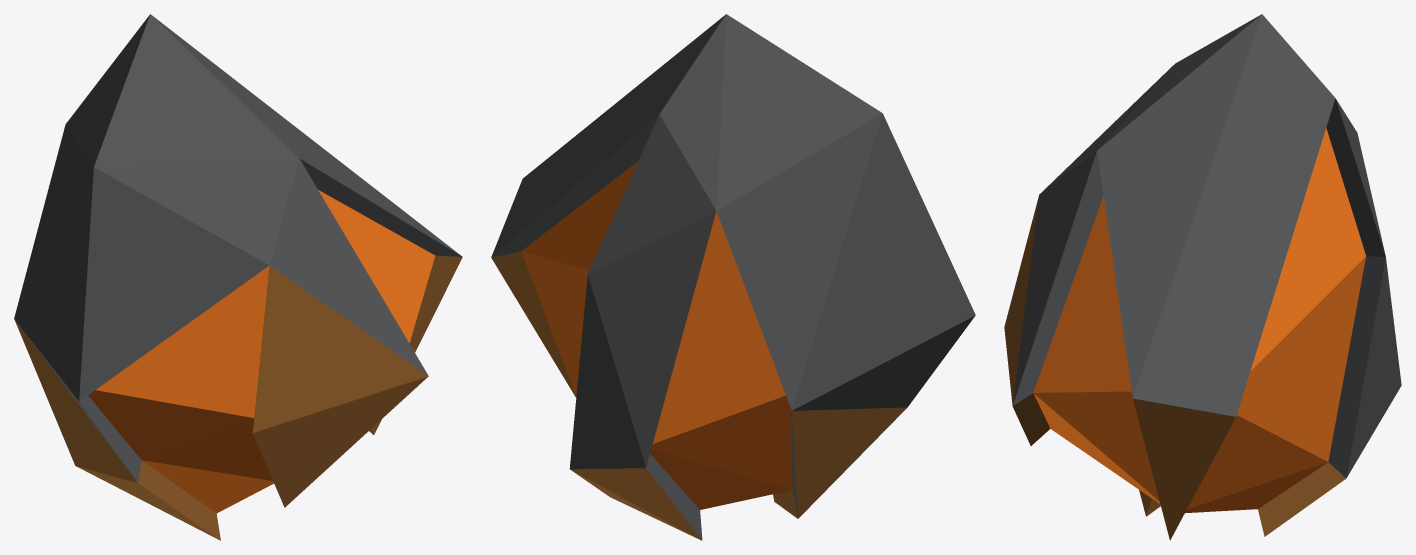
Rendered from Meteor.fbx.
3 views of the same model, side by side, from view 1: azimuth 30°, elevation 25°; view 2: azimuth 150°, elevation 25°; view 3: azimuth 270°, elevation 25° (orthographic). The views are drawn at different scales.
Parts seen in each view (by area): view 1: Icosphere; view 2: Icosphere; view 3: Icosphere.
Part boxes in pixels (left/top/right/bottom): Icosphere: left=14, top=14, right=462, bottom=540; Icosphere: left=491, top=14, right=975, bottom=540; Icosphere: left=1004, top=14, right=1401, bottom=540.
Size of the model in its own units: 230 by 270 by 196.
